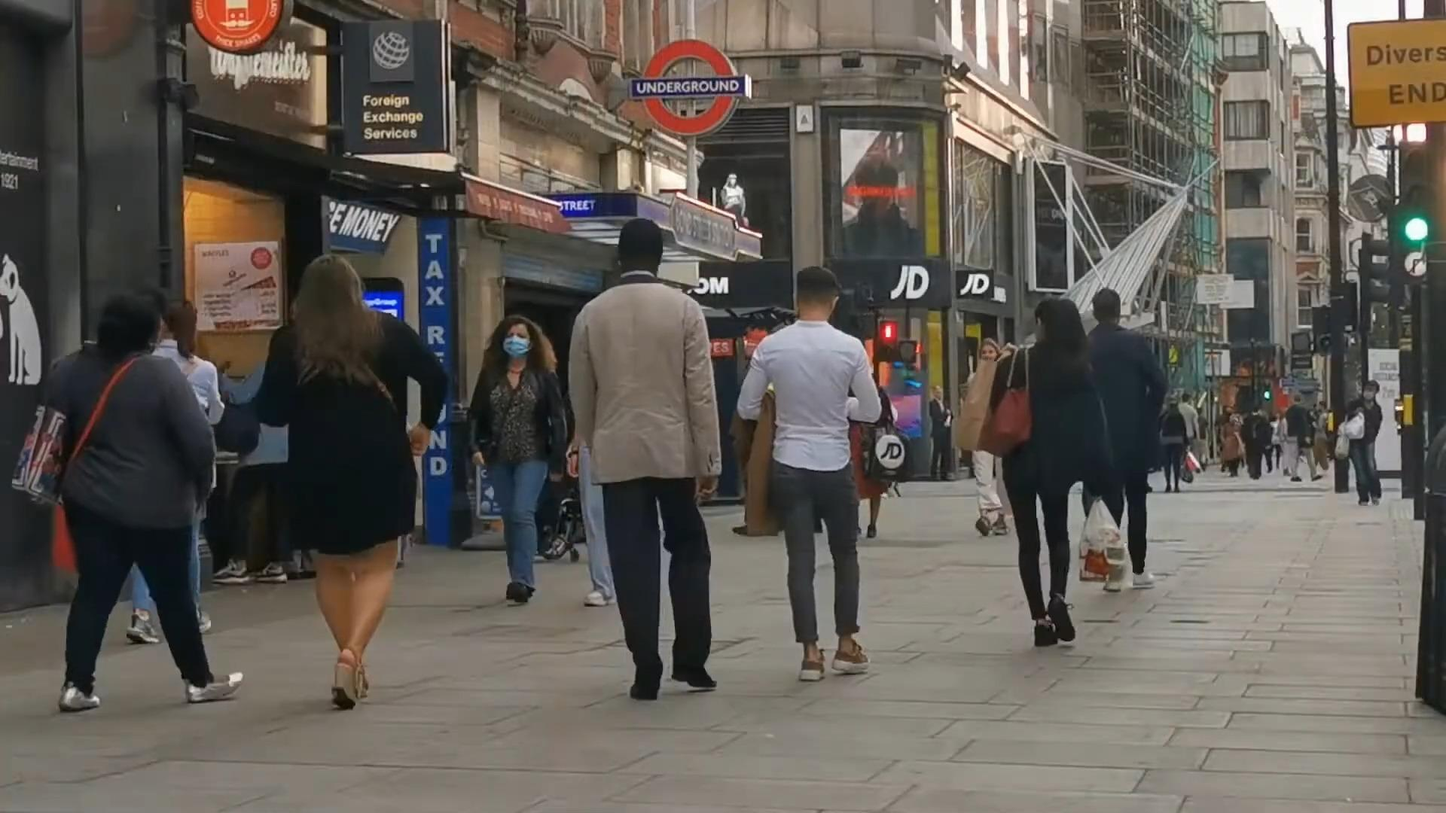no-helmet: (291, 253, 369, 322), (96, 291, 161, 358), (618, 218, 664, 277), (492, 315, 546, 360), (796, 265, 840, 320), (1034, 297, 1083, 343), (161, 299, 196, 355), (1091, 287, 1121, 325), (979, 338, 1000, 361)
